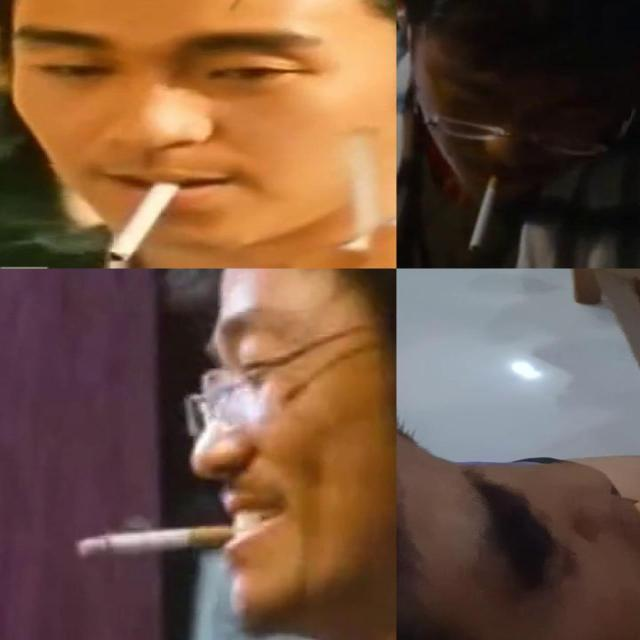smoking: (109, 173, 192, 262), (76, 524, 250, 557), (468, 170, 502, 252)
